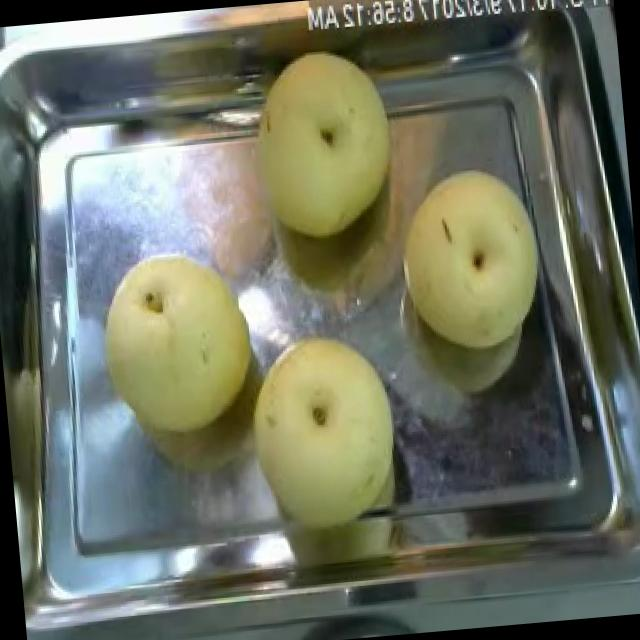Fruit: (214, 32, 412, 258), (231, 316, 418, 538), (83, 231, 270, 451), (385, 155, 550, 365)
